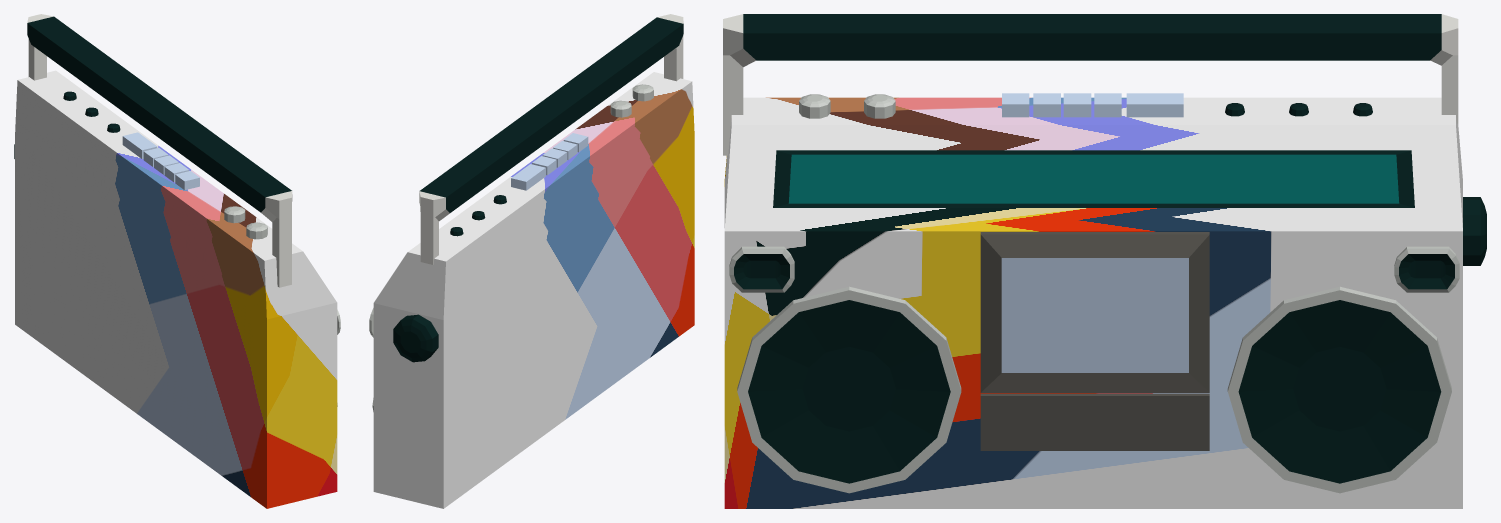
File: boombox.fbx
The picture shows the model from 3 angles, left to right: view 1: azimuth 30°, elevation 25°; view 2: azimuth 150°, elevation 25°; view 3: azimuth 270°, elevation 25°; orthographic projection. The views are drawn at different scales.
Parts seen in each view (by area): view 1: Cube; view 2: Cube; view 3: Cube.
Boxes of the visible parts, box(x1,y1,x2,y2) form: Cube: box(14, 14, 340, 508); Cube: box(369, 14, 694, 508); Cube: box(723, 14, 1486, 508).
Size of the model in its own units: 63.38 by 233 by 360.
